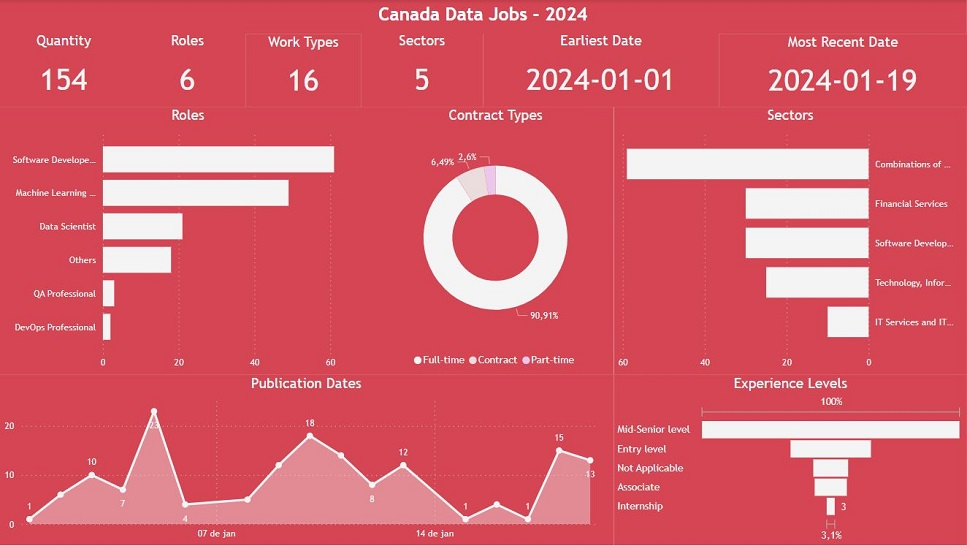

The dashboard page shown, as its layout file describes it:
{"tool":"powerbi","page":{"name":"Dashboard","canvas":[1280,720],"ordinal":0},"visuals":[{"type":"areaChart","title":"Publication Dates","fields":{"Y":["CountNonNull(datac2.id)"],"Category":["datac2.publishedAt.Variation.Hierarquia de datas.Ano"]},"box":[0,494.5,812.9,225.5],"z":0},{"type":"clusteredBarChart","title":"Sectors","fields":{"Y":["CountNonNull(datac2.id)"],"Category":["datac2.sector"]},"box":[812.9,141.1,466.7,353.4],"z":1000},{"type":"funnel","title":"Experience Levels","fields":{"Category":["datac2.experienceLevel"],"Y":["CountNonNull(datac2.id)"]},"box":[812.9,494.5,466.7,225.5],"z":2000},{"type":"donutChart","title":"Contract Types","fields":{"Y":["CountNonNull(datac2.id)"],"Category":["datac2.contractType"]},"box":[500.5,141.1,312.4,353.4],"z":3000},{"type":"clusteredBarChart","title":"Roles","fields":{"Category":["datac2.title"],"Y":["CountNonNull(datac2.id)"]},"box":[0,141.1,500.5,353.4],"z":4000},{"type":"textbox","box":[0,0,1279.6,44.6],"z":5000},{"type":"card","title":"Professionals","fields":{"Values":["CountNonNull(datac2.id)"]},"box":[0,42.2,172.5,98.9],"z":6000},{"type":"card","title":"Roles","fields":{"Values":["Count(datac2.title)"]},"box":[172.5,42.2,154.4,98.9],"z":7000},{"type":"card","title":"Work Types","fields":{"Values":["Count(datac2.workType)"]},"box":[326.8,44.6,152,96.5],"z":8000},{"type":"card","title":"Sectors","fields":{"Values":["Count(datac2.sector)"]},"box":[478.8,42.2,161.6,98.9],"z":9000},{"type":"card","title":"Earliest Date","fields":{"Values":["Min(datac2.publishedAt)"]},"box":[640.4,42.2,311.2,98.9],"z":10000},{"type":"card","title":"Most Recent Date","fields":{"Values":["Max(datac2.publishedAt)"]},"box":[951.6,44.6,328,96.5],"z":11000}]}

Visuals, with their boxes in screenshot pixels (x1, y1, x2, y2), scaled from the page's 1280x720 canvas onto the 967x546 screenshot:
"Publication Dates" areaChart: 0, 375, 614, 545
"Sectors" clusteredBarChart: 614, 107, 966, 375
"Experience Levels" funnel: 614, 375, 966, 545
"Contract Types" donutChart: 378, 107, 614, 375
"Roles" clusteredBarChart: 0, 107, 378, 375
textbox: 0, 0, 966, 34
"Professionals" card: 0, 32, 130, 107
"Roles" card: 130, 32, 247, 107
"Work Types" card: 247, 34, 362, 107
"Sectors" card: 362, 32, 484, 107
"Earliest Date" card: 484, 32, 719, 107
"Most Recent Date" card: 719, 34, 966, 107
